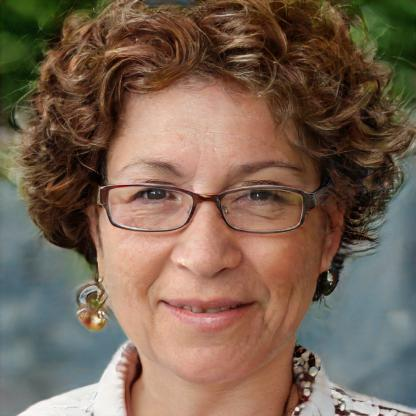glasses: (93, 180, 319, 236)
